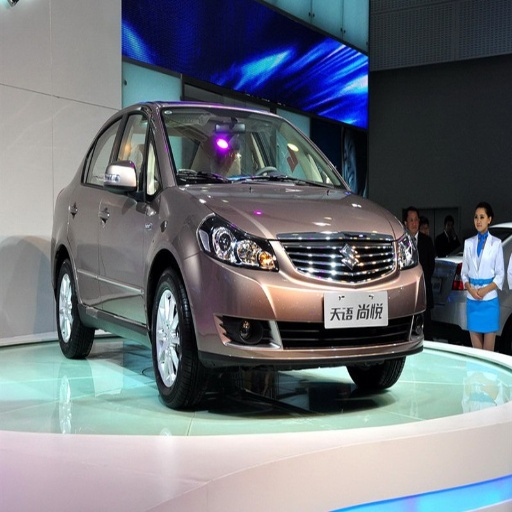front_bumper: (185, 239, 423, 365)
front_right_door: (100, 107, 160, 319)
front_right_light: (199, 216, 277, 269)
